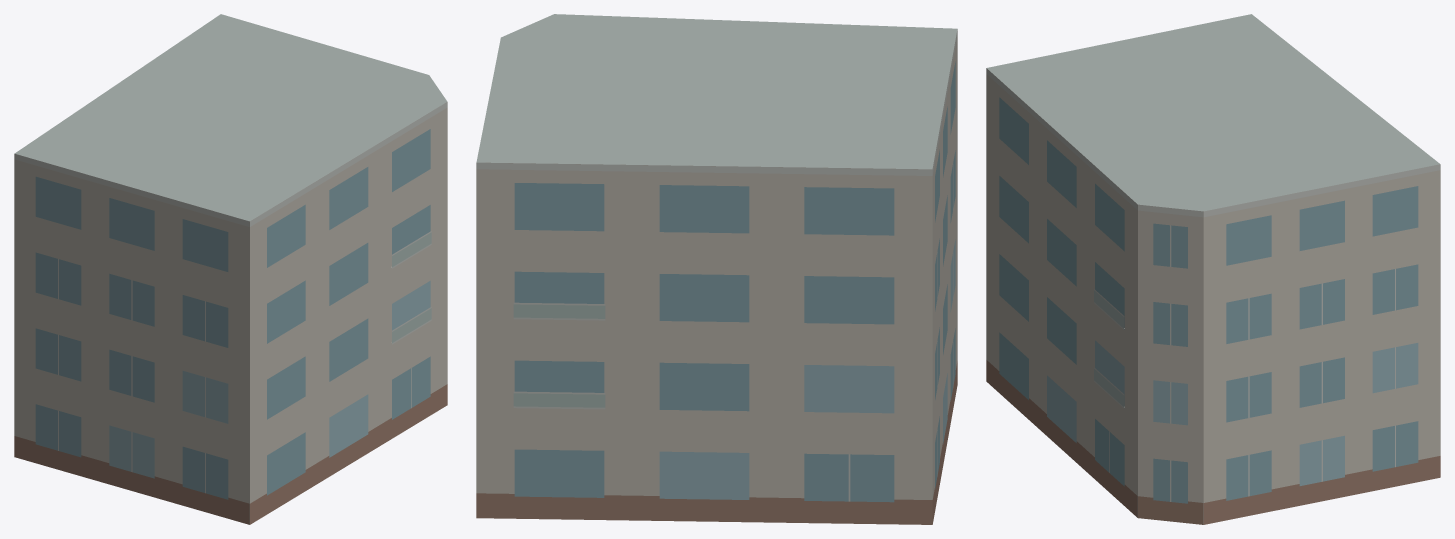
The model's file is survey-upis-32731900.glb.
3 renders of one model, left to right at view 1: azimuth 30°, elevation 25°; view 2: azimuth 150°, elevation 25°; view 3: azimuth 270°, elevation 25°, orthographic. The views are drawn at different scales.
Visible parts, largest first — view 1: survey-upis-32731900.tmp; view 2: survey-upis-32731900.tmp; view 3: survey-upis-32731900.tmp.
Boxes of the visible parts, x1,y1,x2,y2 form: survey-upis-32731900.tmp: (14, 14, 447, 524); survey-upis-32731900.tmp: (476, 14, 957, 524); survey-upis-32731900.tmp: (986, 14, 1440, 524).
Size of the model in its own units: 17.43 by 12.9 by 16.95.
